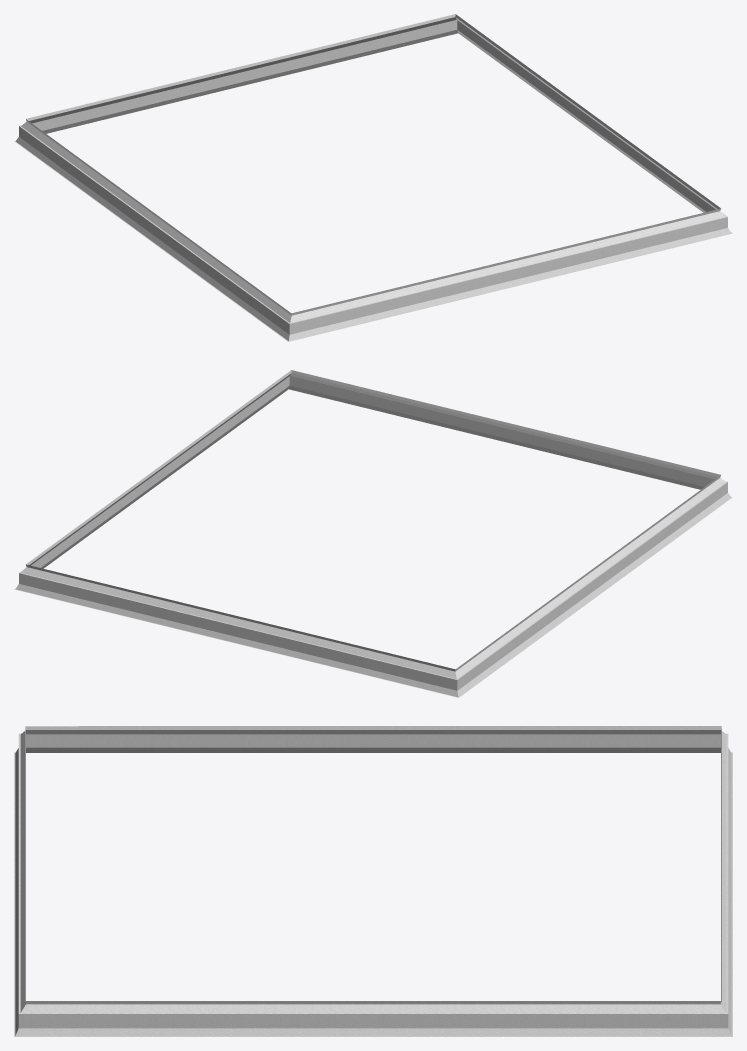
Rendered from shigaoxian03.fbx.
3 views of the same model, one above another, from view 1: azimuth 30°, elevation 25°; view 2: azimuth 150°, elevation 25°; view 3: azimuth 270°, elevation 25° (orthographic). The views are drawn at different scales.
Visible parts, largest first — view 1: shigaoxian03; view 2: shigaoxian03; view 3: shigaoxian03.
Boxes of the visible parts, left/top/right/bottom form: shigaoxian03: left=14, top=14, right=732, bottom=341; shigaoxian03: left=14, top=370, right=732, bottom=697; shigaoxian03: left=14, top=726, right=732, bottom=1036.
Bounding box in the file's own units: 306 × 15.59 × 327.
